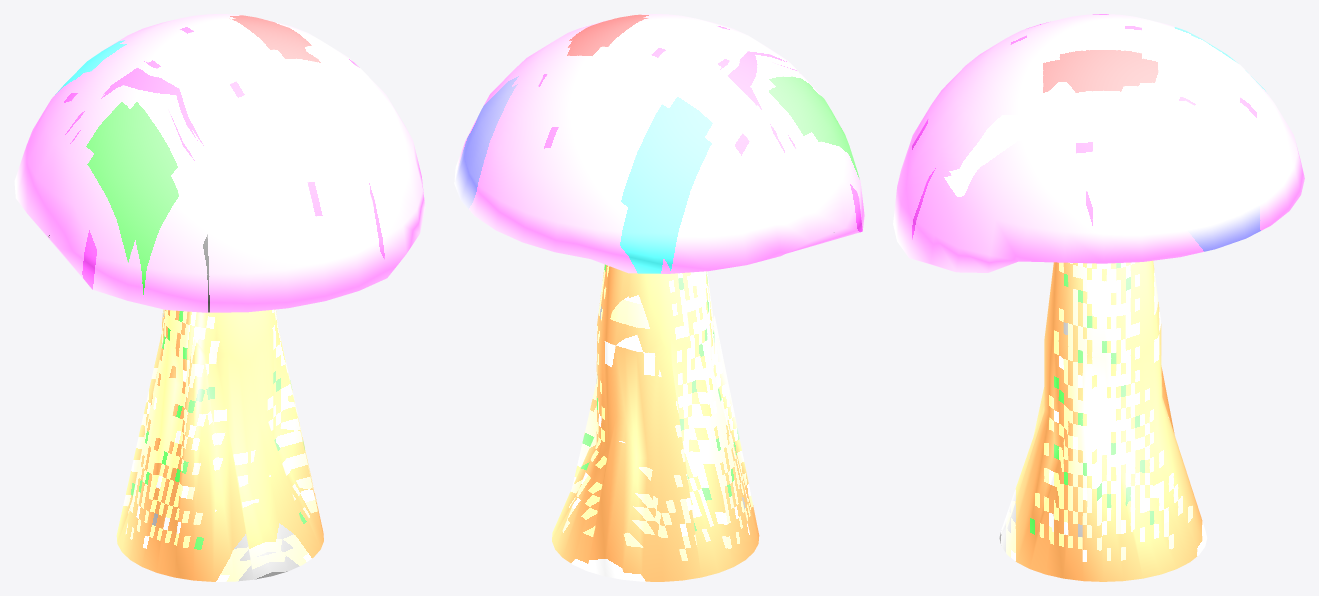
Rendered from mushboom.glb.
The picture shows the model from 3 angles, left to right: view 1: azimuth 30°, elevation 25°; view 2: azimuth 150°, elevation 25°; view 3: azimuth 270°, elevation 25°; orthographic projection.
Parts seen in each view (by area): view 1: Sphere, Cylinder; view 2: Sphere, Cylinder; view 3: Sphere, Cylinder.
Part boxes in pixels (x1,y1,x2,y2): Sphere: (14,14,425,312); Cylinder: (116,309,323,581); Sphere: (454,14,864,273); Cylinder: (552,264,759,581); Sphere: (893,14,1304,272); Cylinder: (999,260,1207,581).
Size of the model in its own units: 4.84 by 6.67 by 4.93.
